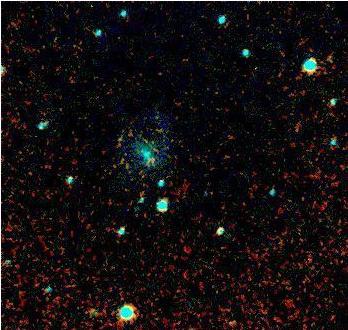star: (107, 123, 137, 153)
